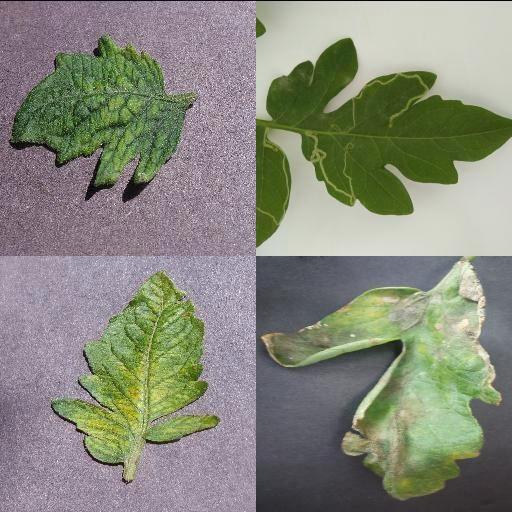Late Blight: (258, 256, 504, 502)
Leaf Miner: (266, 35, 512, 214)
Mosaic Virus: (52, 270, 220, 466), (7, 36, 185, 187)
